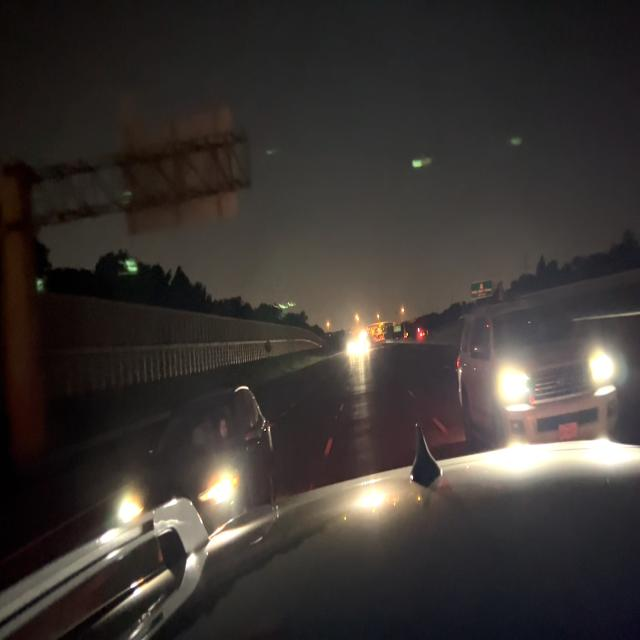back-of-sign: (119, 110, 239, 228)
